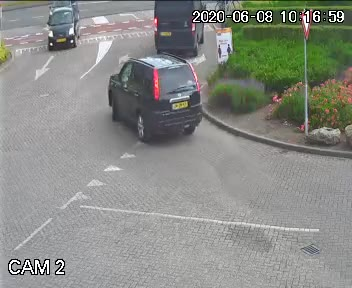car: (100, 48, 213, 153), (150, 0, 208, 60), (42, 0, 86, 51)
